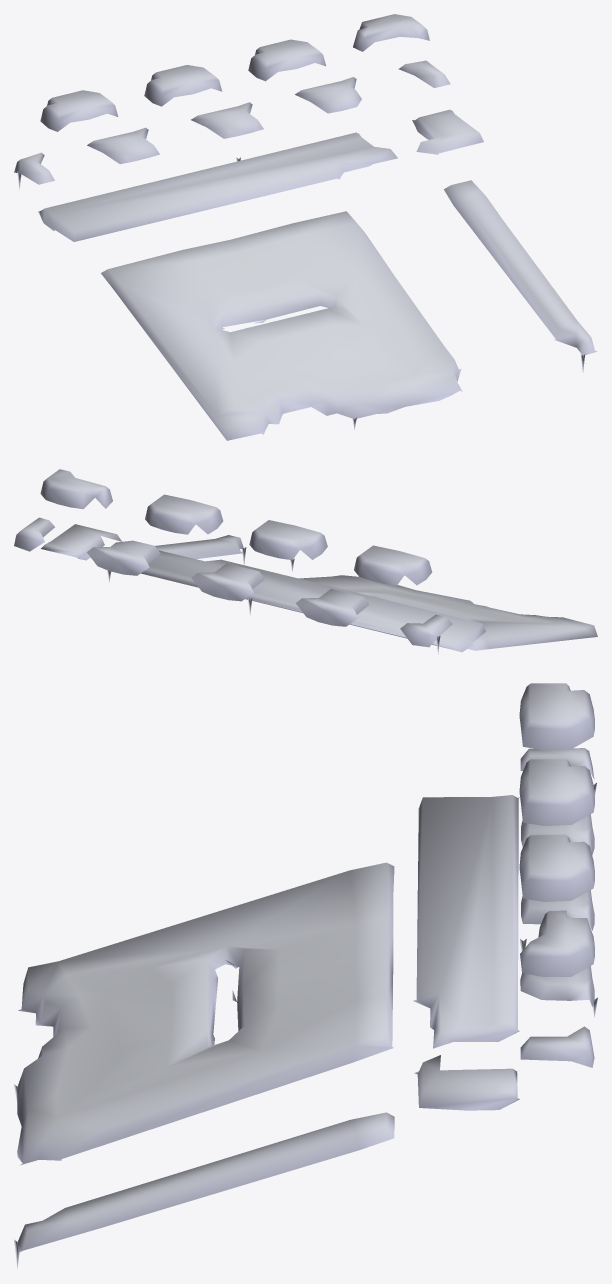
File: hall.wallet.t0.snow.glb
3 views of the same model, one above another, from view 1: azimuth 30°, elevation 25°; view 2: azimuth 150°, elevation 25°; view 3: azimuth 270°, elevation 25° (orthographic). The views are drawn at different scales.
Parts seen in each view (by area): view 1: snow; view 2: snow; view 3: snow.
Boxes of the visible parts, left/top/right/bottom form: snow: left=14, top=14, right=597, bottom=440; snow: left=14, top=469, right=597, bottom=654; snow: left=14, top=683, right=597, bottom=1268.
Size of the model in its own units: 4.03 by 2.04 by 3.25.
